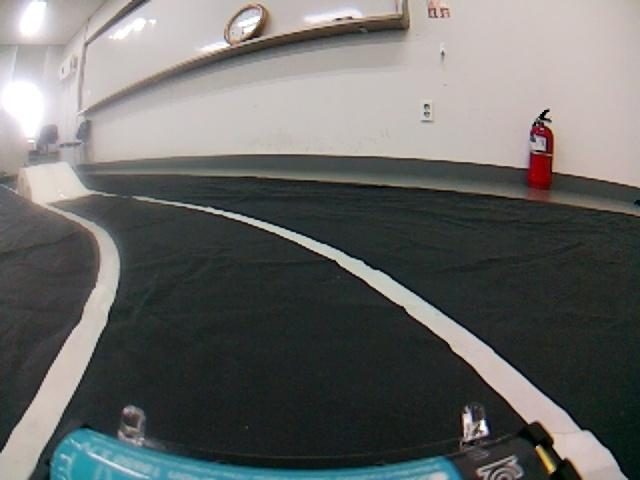left: (3, 199, 627, 480)
